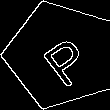P_NW: (30, 24, 92, 86)
